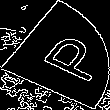P_NW: (12, 26, 98, 84)
